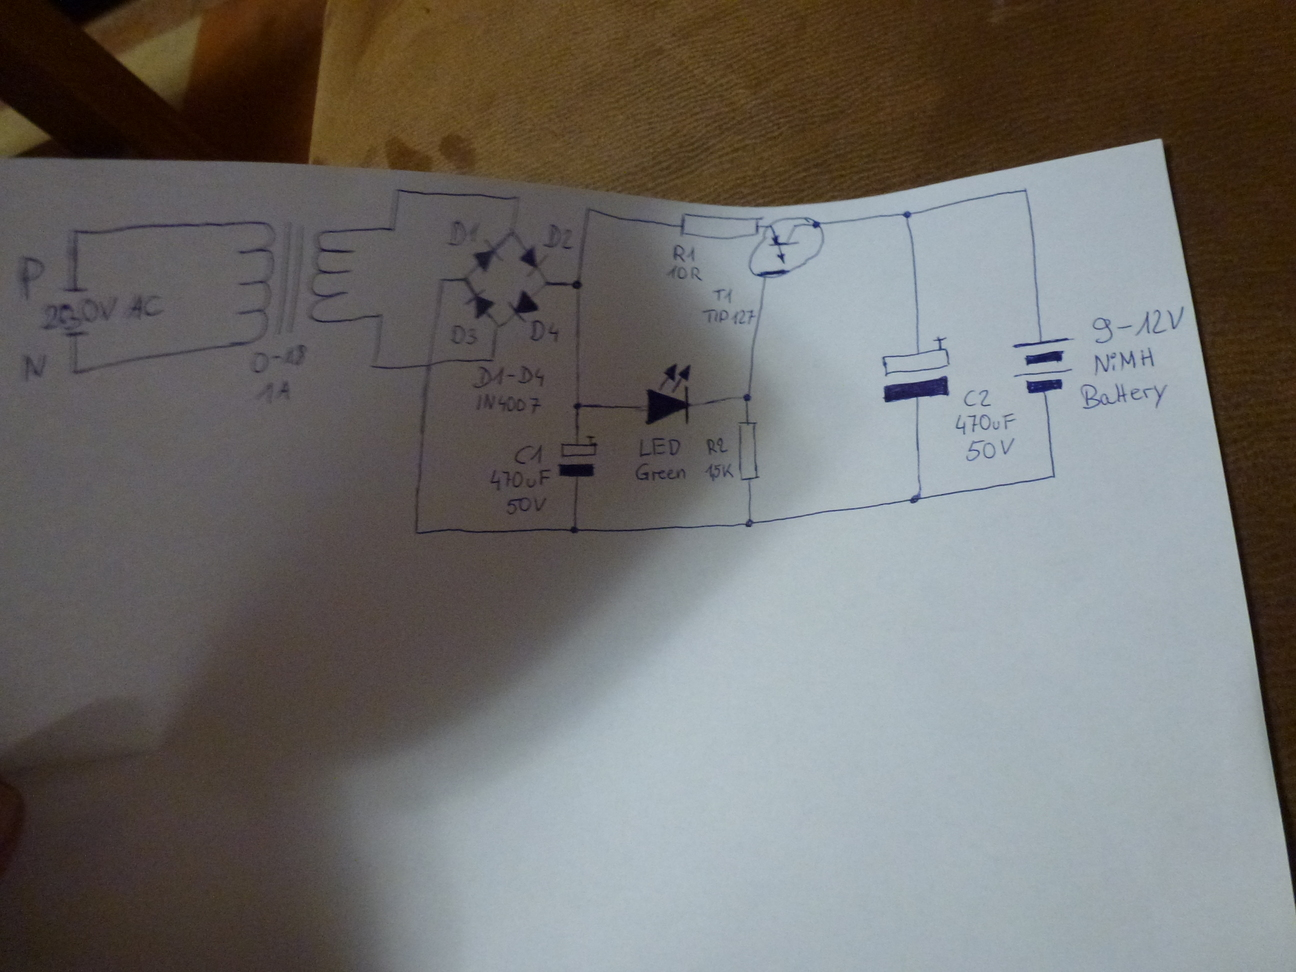capacitor.polarized: (880, 339, 954, 406), (556, 432, 601, 480)
crossover: (423, 358, 435, 371)
diode: (464, 281, 498, 322), (472, 238, 506, 274), (506, 290, 540, 324), (516, 243, 548, 277)
diode.light_emitting: (641, 362, 696, 429)
junction: (504, 224, 522, 242), (908, 488, 924, 506), (68, 362, 85, 379), (569, 398, 586, 414), (458, 271, 473, 287), (899, 208, 915, 223), (742, 515, 756, 530), (739, 389, 753, 404), (67, 224, 81, 240), (491, 319, 505, 333), (539, 276, 551, 292), (567, 522, 581, 536), (569, 277, 583, 291), (483, 353, 498, 364), (387, 222, 398, 235), (1047, 470, 1059, 481), (411, 526, 422, 538), (583, 205, 594, 216), (1020, 185, 1031, 197), (511, 193, 524, 203), (375, 310, 385, 322), (436, 276, 445, 286), (367, 360, 378, 370), (393, 187, 402, 197)
resistor: (678, 211, 765, 242), (734, 419, 761, 483)
terminal: (57, 283, 91, 296), (62, 329, 92, 342)
text: (1090, 304, 1187, 345), (60, 292, 168, 327), (1078, 379, 1167, 411), (478, 361, 544, 393), (471, 387, 540, 416), (15, 252, 53, 303), (1091, 346, 1158, 375), (950, 408, 1015, 436), (487, 467, 552, 493), (961, 433, 1017, 463), (255, 341, 309, 372), (637, 432, 684, 461), (633, 461, 691, 484), (252, 376, 293, 407), (703, 306, 757, 327), (504, 495, 548, 518), (18, 351, 49, 382), (445, 218, 482, 244), (526, 318, 560, 344), (543, 221, 574, 250), (512, 442, 546, 466), (448, 323, 478, 349), (961, 386, 994, 408), (701, 461, 735, 483), (664, 265, 705, 283), (670, 242, 696, 266), (709, 286, 736, 306), (704, 435, 728, 457)
transformer: (228, 218, 355, 349)
transistor: (746, 214, 826, 283)
voltage.dc: (1009, 334, 1077, 396)
